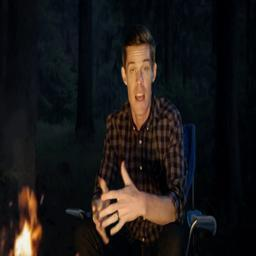fire: (13, 184, 41, 256)
